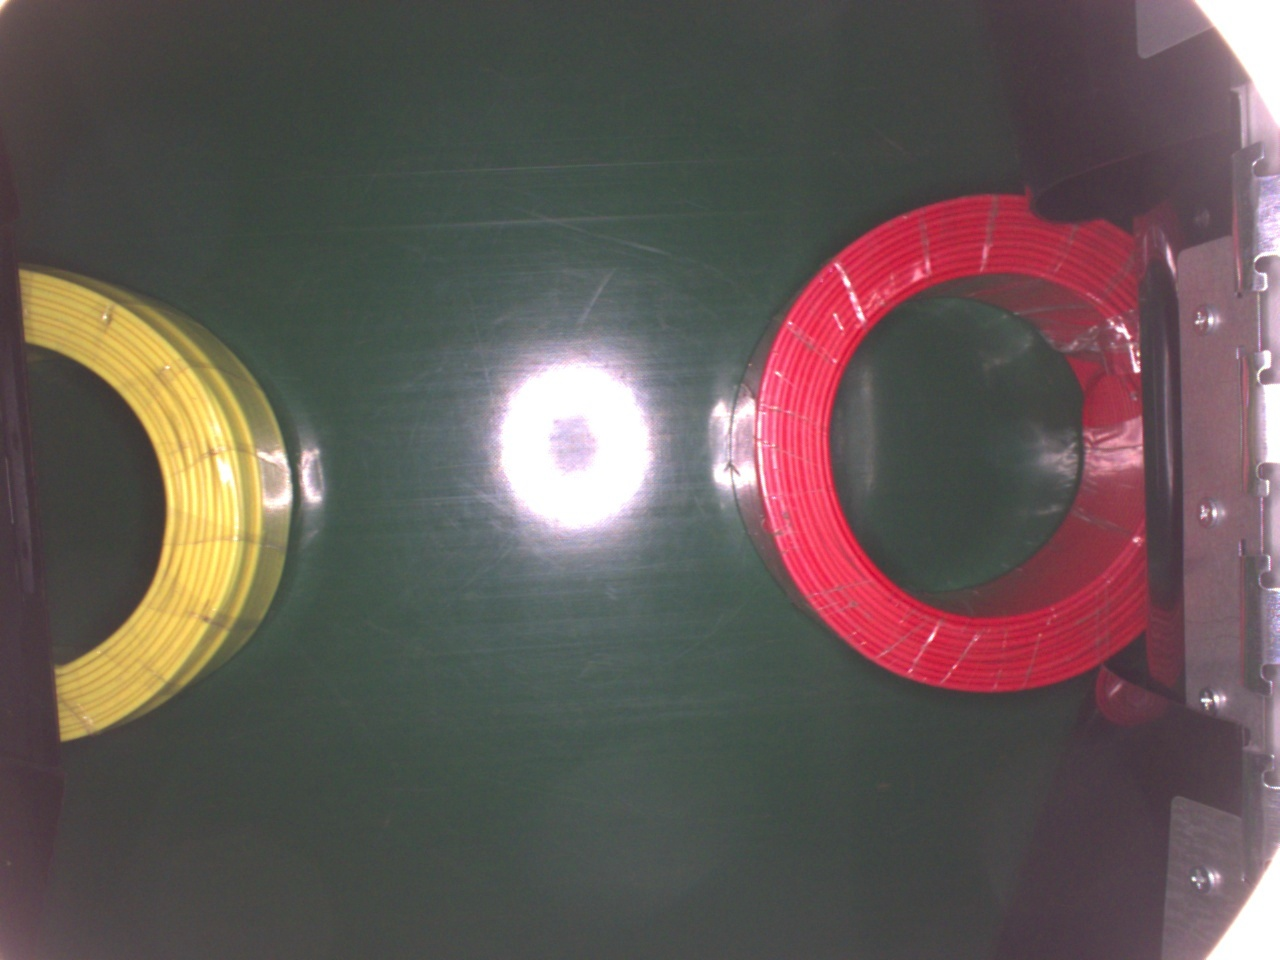red: (725, 193, 1144, 690)
yellow: (17, 258, 300, 742)
